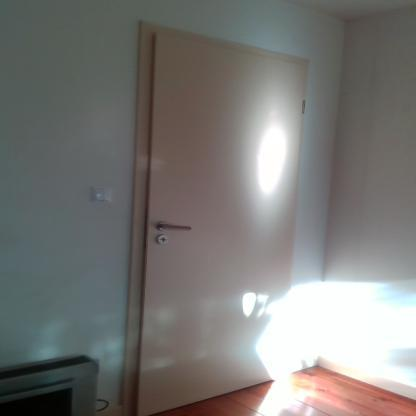door: (144, 34, 292, 398)
hinged: (300, 100, 306, 114)
lever: (158, 223, 194, 234)
